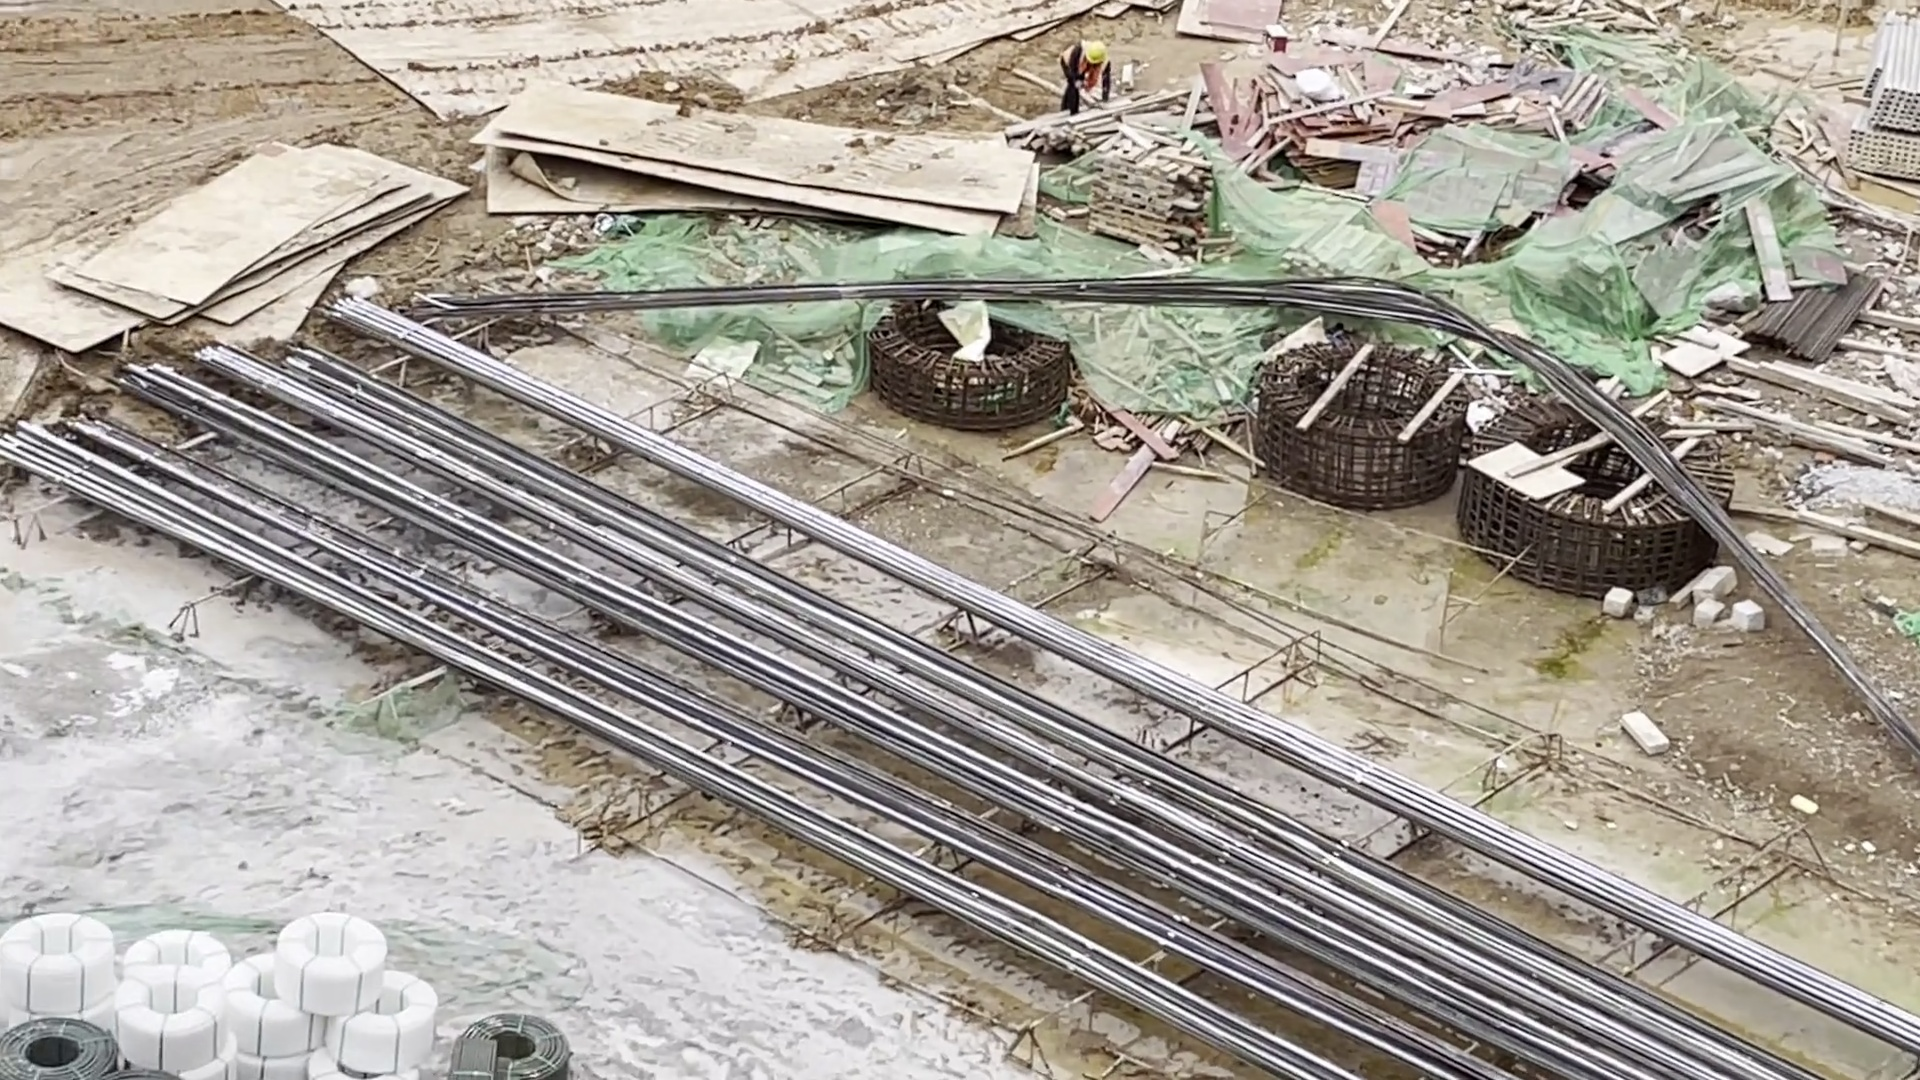board: (1254, 43, 1611, 227)
helmet: (1086, 39, 1111, 64)
person: (1054, 33, 1119, 124)
rebar: (127, 332, 961, 884), (1018, 728, 1683, 1080)
vest: (1062, 63, 1113, 105)
